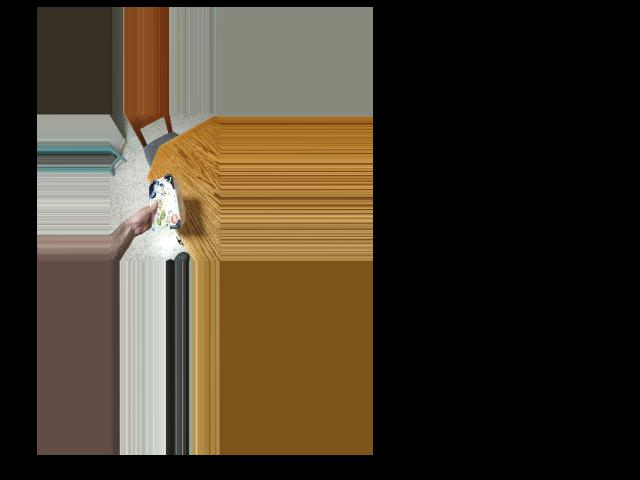cheese: (143, 177, 182, 228)
